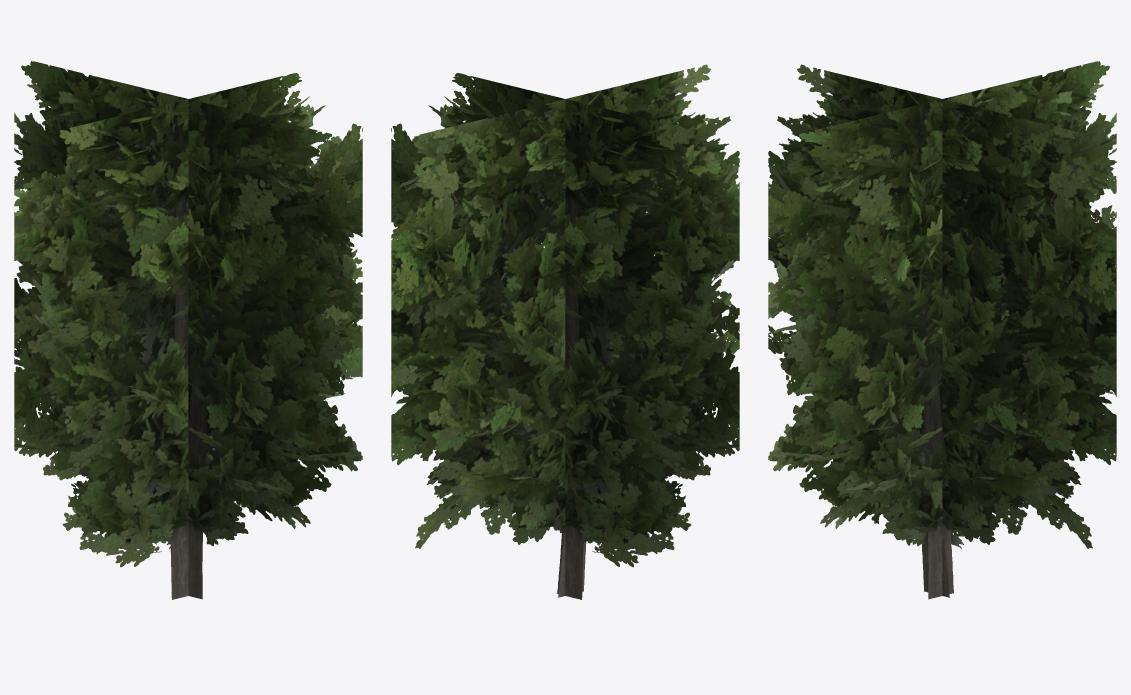
File: lipa_stredni_daleko.glb
The picture shows the model from 3 angles, left to right: view 1: azimuth 30°, elevation 25°; view 2: azimuth 150°, elevation 25°; view 3: azimuth 270°, elevation 25°; orthographic projection.
Parts seen in each view (by area): view 1: lipa_stredni_daleko; view 2: lipa_stredni_daleko; view 3: lipa_stredni_daleko.
Part boxes in pixels (bbox=[...]): lipa_stredni_daleko: bbox=[14, 61, 362, 599]; lipa_stredni_daleko: bbox=[391, 64, 739, 599]; lipa_stredni_daleko: bbox=[768, 61, 1116, 599].
Size of the model in its own units: 10.56 by 14.39 by 9.14.
Materials: 3 (3 with a texture image).
